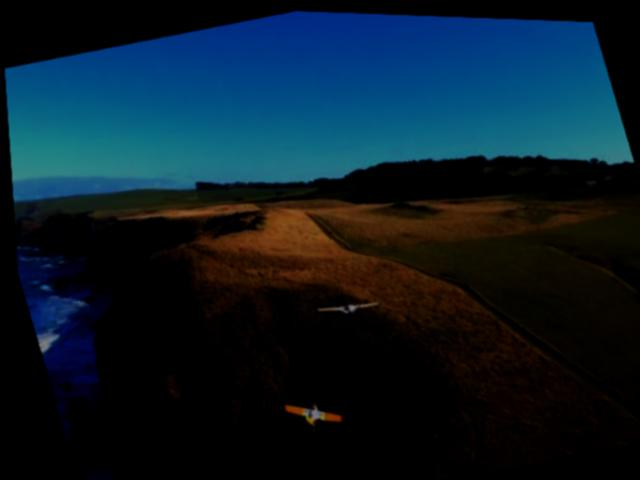uav: (267, 383, 347, 437), (309, 287, 377, 322)
